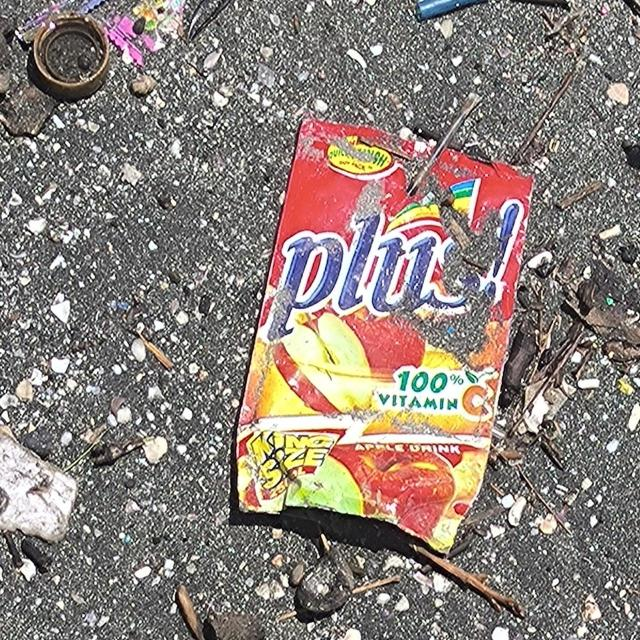plastic_waste: (234, 122, 535, 558), (35, 14, 111, 98)
